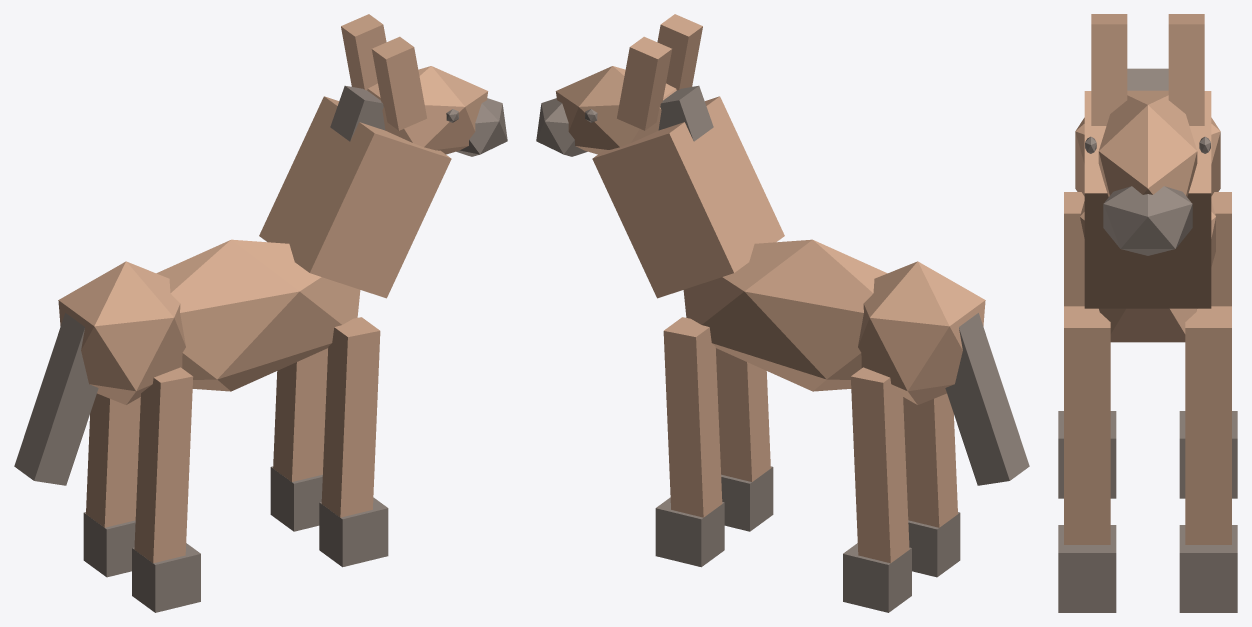
Rendered from horse-faceted.glb.
The picture shows the model from 3 angles, left to right: view 1: azimuth 30°, elevation 25°; view 2: azimuth 150°, elevation 25°; view 3: azimuth 270°, elevation 25°; orthographic projection. The views are drawn at different scales.
Parts seen in each view (by area): view 1: Neck, Body, Rump, Leg.002, Leg, Tail, Leg.001, Leg.003, Head, Hoof.002, Ear, Hoof (+5 smaller); view 2: Neck, Body, Rump, Leg.003, Leg.001, Tail, Leg, Leg.002, Head, Hoof.003, Ear.001, Hoof.001 (+5 smaller); view 3: Neck, Leg.002, Leg.003, Head, Muzzle, Hoof.002, Hoof.003, Ear, Ear.001, Body, Leg, Leg.001 (+4 smaller).
Part boxes in pixels (box(x1,y1,x2,y2)): Neck: box(259, 96, 451, 298); Body: box(156, 239, 360, 391); Rump: box(58, 261, 185, 404); Leg.002: box(321, 317, 380, 517); Leg: box(134, 367, 193, 563); Tail: box(14, 313, 98, 485); Leg.001: box(86, 393, 140, 527); Leg.003: box(273, 348, 327, 481); Head: box(367, 66, 488, 154); Hoof.002: box(319, 497, 388, 567); Ear: box(371, 36, 426, 130); Hoof: box(132, 543, 200, 612); Neck: box(592, 96, 784, 298); Body: box(683, 239, 887, 391); Rump: box(858, 261, 985, 404); Leg.003: box(663, 317, 722, 517); Leg.001: box(850, 367, 909, 563); Tail: box(945, 313, 1029, 485); Leg: box(903, 393, 957, 527); Leg.002: box(716, 348, 770, 481); Head: box(555, 66, 676, 154); Hoof.003: box(655, 497, 724, 567); Ear.001: box(617, 36, 672, 130); Hoof.001: box(843, 543, 911, 612); Neck: box(1084, 91, 1211, 308); Leg.002: box(1064, 306, 1110, 544); Leg.003: box(1185, 306, 1231, 544); Head: box(1098, 90, 1197, 196); Muzzle: box(1103, 186, 1192, 255); Hoof.002: box(1058, 525, 1116, 612); Hoof.003: box(1179, 525, 1237, 612); Ear: box(1091, 14, 1127, 125); Ear.001: box(1168, 14, 1204, 125); Body: box(1080, 201, 1215, 342); Leg: box(1064, 192, 1084, 306); Leg.001: box(1211, 192, 1231, 306).
Bounding box in the file's own units: 2.51 × 2.45 × 0.65.
